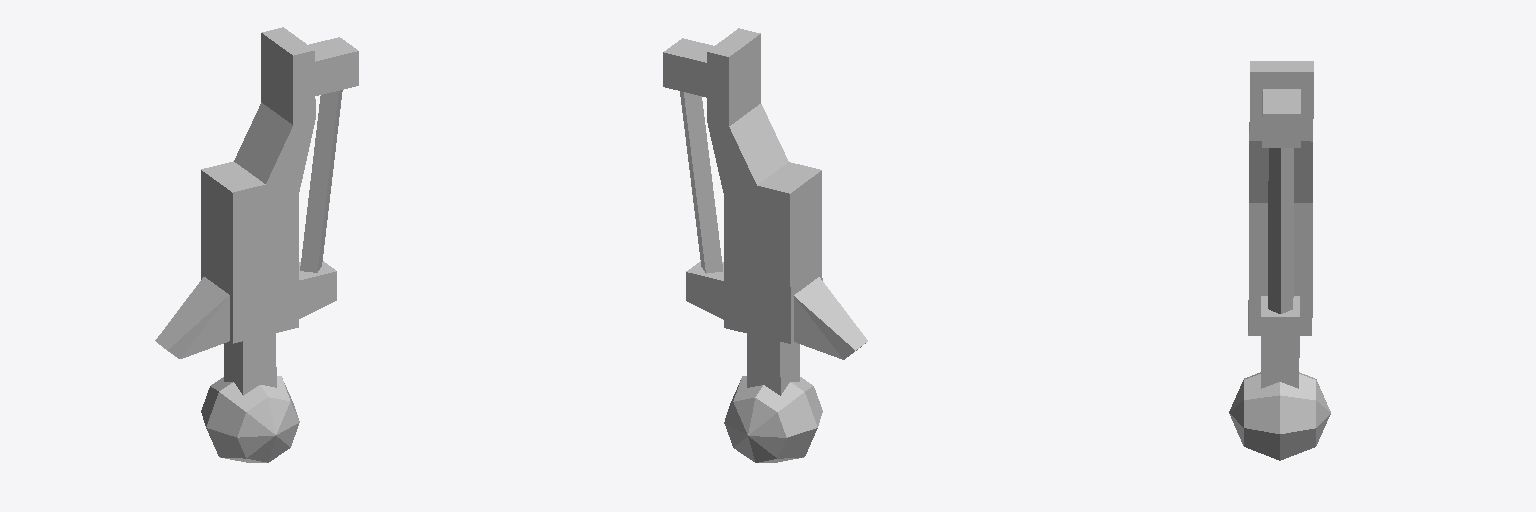
Rendered from guurahk_uarm.obj.
3 renders of one model, left to right at view 1: azimuth 30°, elevation 25°; view 2: azimuth 150°, elevation 25°; view 3: azimuth 270°, elevation 25°, orthographic.
Parts seen in each view (by area): view 1: 3.004; view 2: 3.004; view 3: 3.004.
Part boxes in pixels (bbox=[...]): 3.004: bbox=[155, 27, 358, 462]; 3.004: bbox=[663, 28, 867, 462]; 3.004: bbox=[1229, 61, 1330, 460].
Bounding box in the file's own units: 0.3987 × 0.8324 × 0.1875.